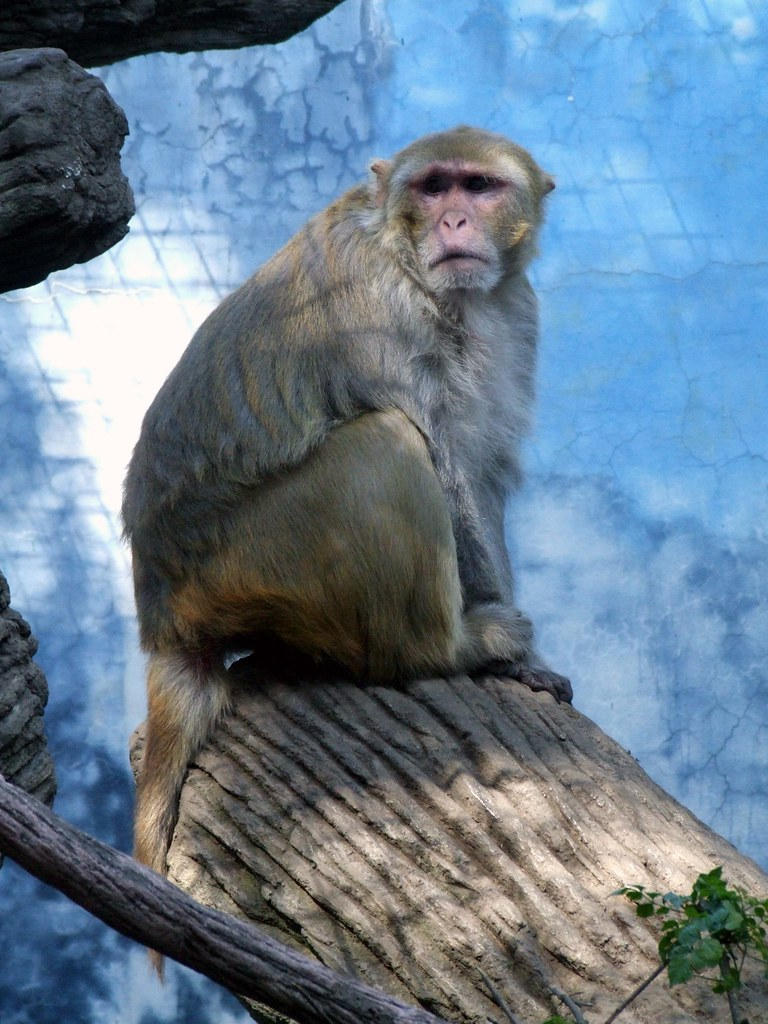monkey: (140, 112, 592, 974)
